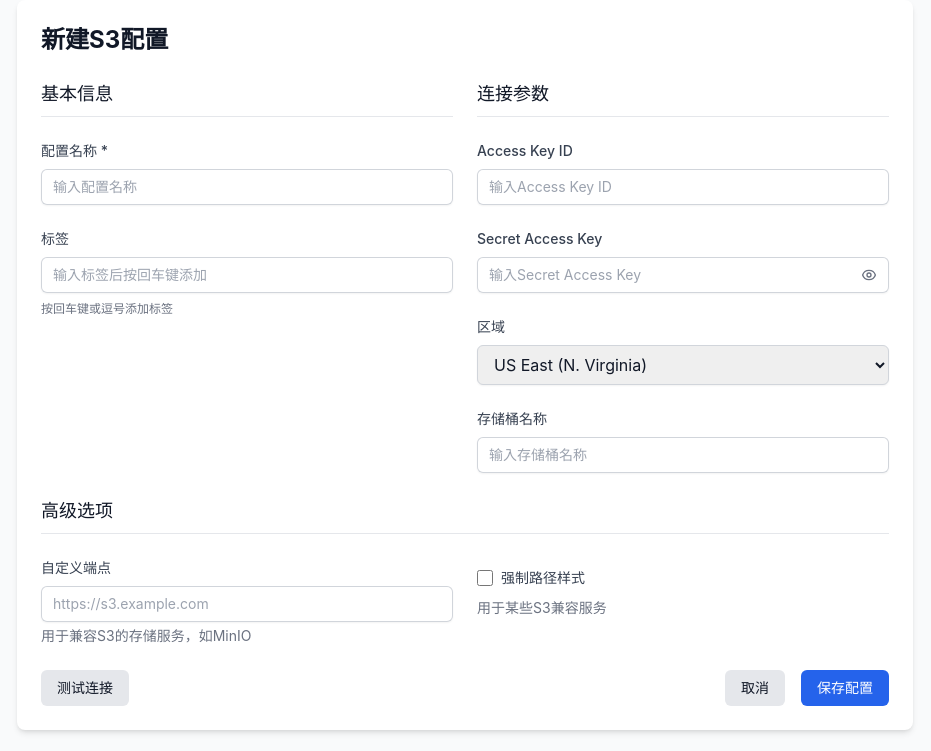
ConfigForm › Tag Management › should add tags when Enter is pressed
Type "production" into the field with placeholder "输入标签后按回车键添加".
click(247, 275); type("production")  # box top-left (41, 257), bottom-right (453, 293)
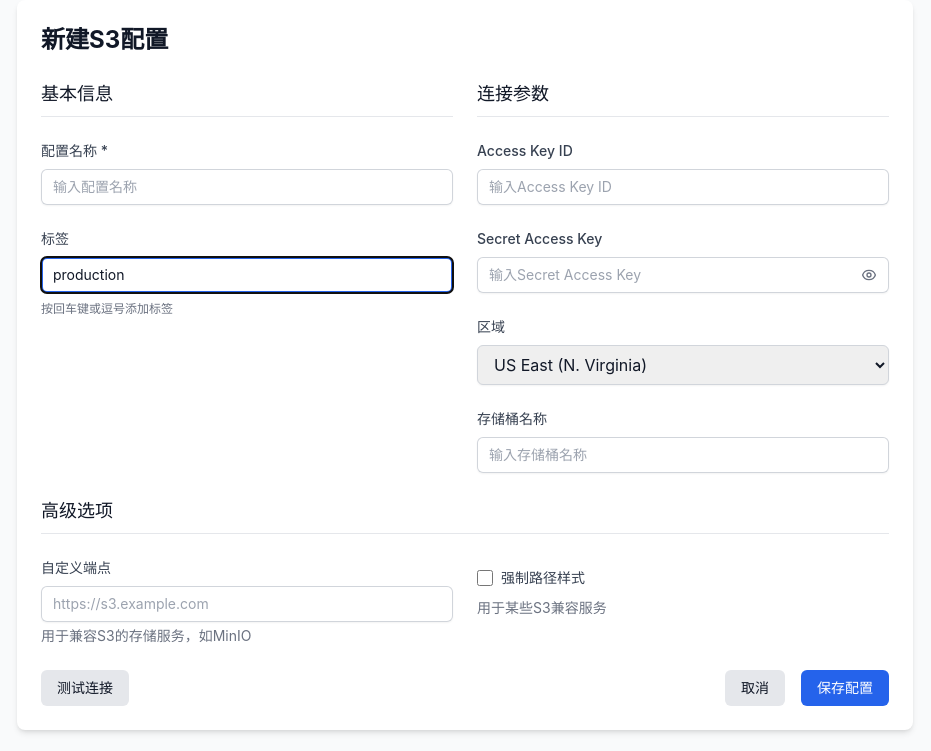
Press Enter
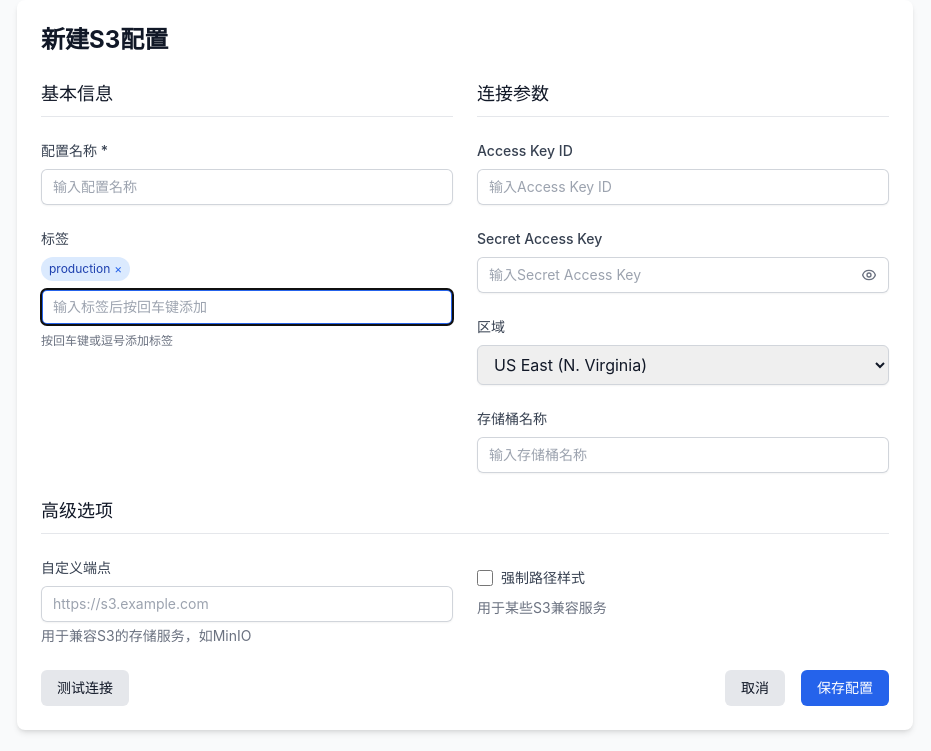
Result: the text "production" is shown at top-left (49, 261), bottom-right (110, 276)
